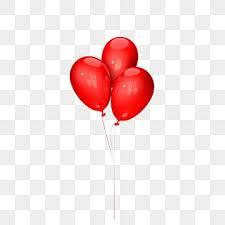red: (108, 67, 154, 126), (70, 55, 110, 117), (101, 36, 138, 70)
